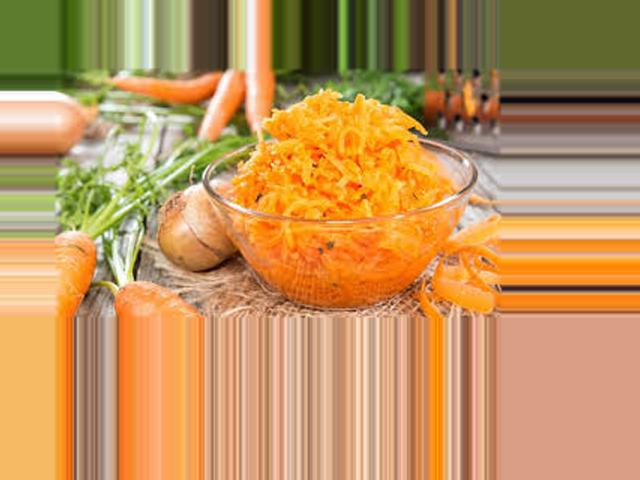carrot: (244, 74, 272, 132)
